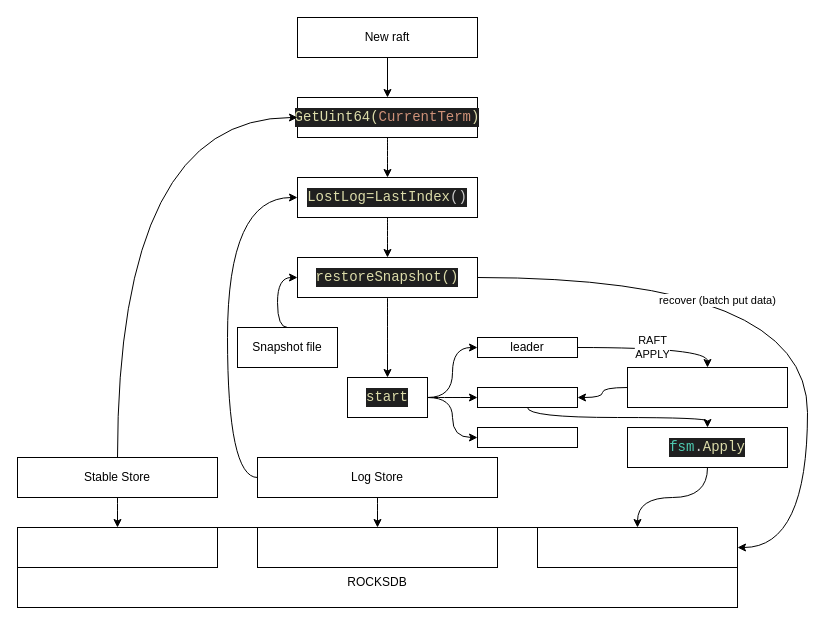
Some shapes in this 825 by 625 pixel diagram are drawn without their labels. Each missing label, with the centre of its shape:
"fsm" belongs at pixel 527 397.
"KEY/VALUE" belongs at pixel 637 547.
"raft. Apply" belongs at pixel 707 387.
"raft_log_XXX/VALUE" belongs at pixel 377 547.
"raft_stable_XXX/VALUE" belongs at pixel 117 547.
"snapshot" belongs at pixel 527 437.
